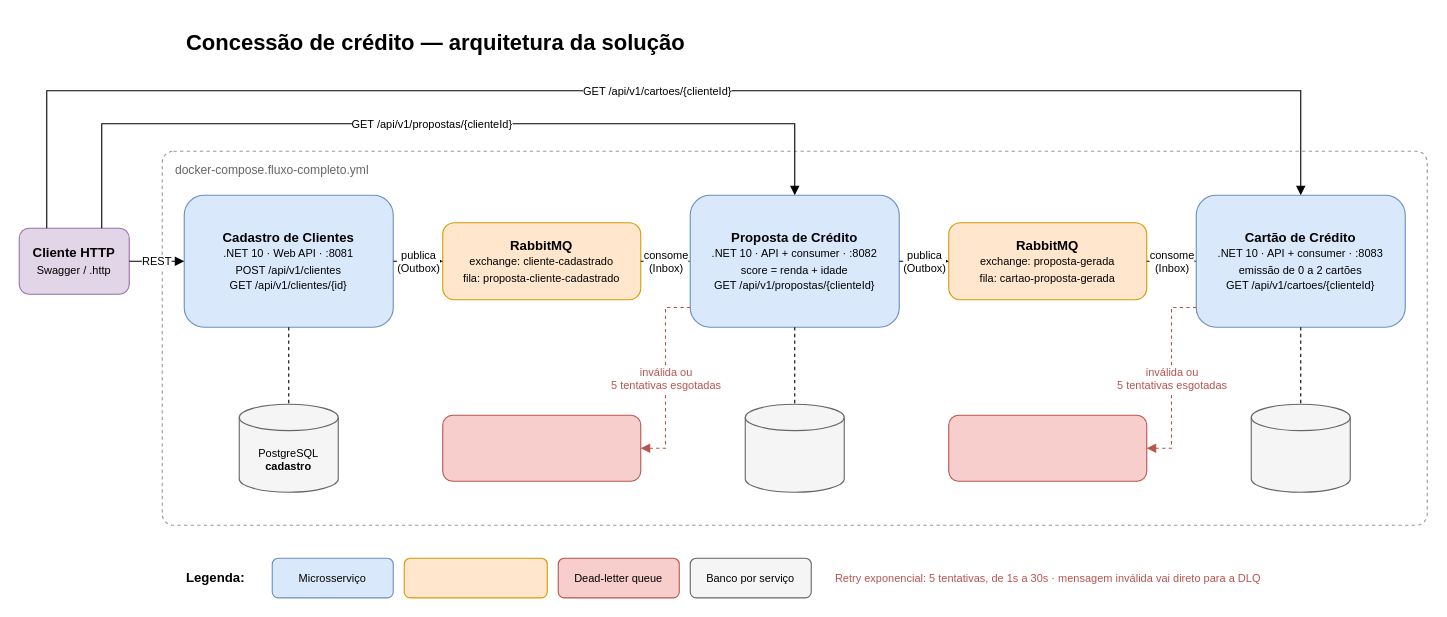
This 1447x617 diagram has some shape labels left out. Each missing label, with the box of its shape:
DLQ cartao-proposta-gerada_error: (948, 414, 1147, 481)
DLQ proposta-cliente-cadastrado_error: (442, 414, 641, 481)
PostgreSQL cartao: (1250, 403, 1350, 492)
PostgreSQL proposta: (744, 403, 844, 492)
RabbitMQ (broker único): (403, 557, 547, 598)
